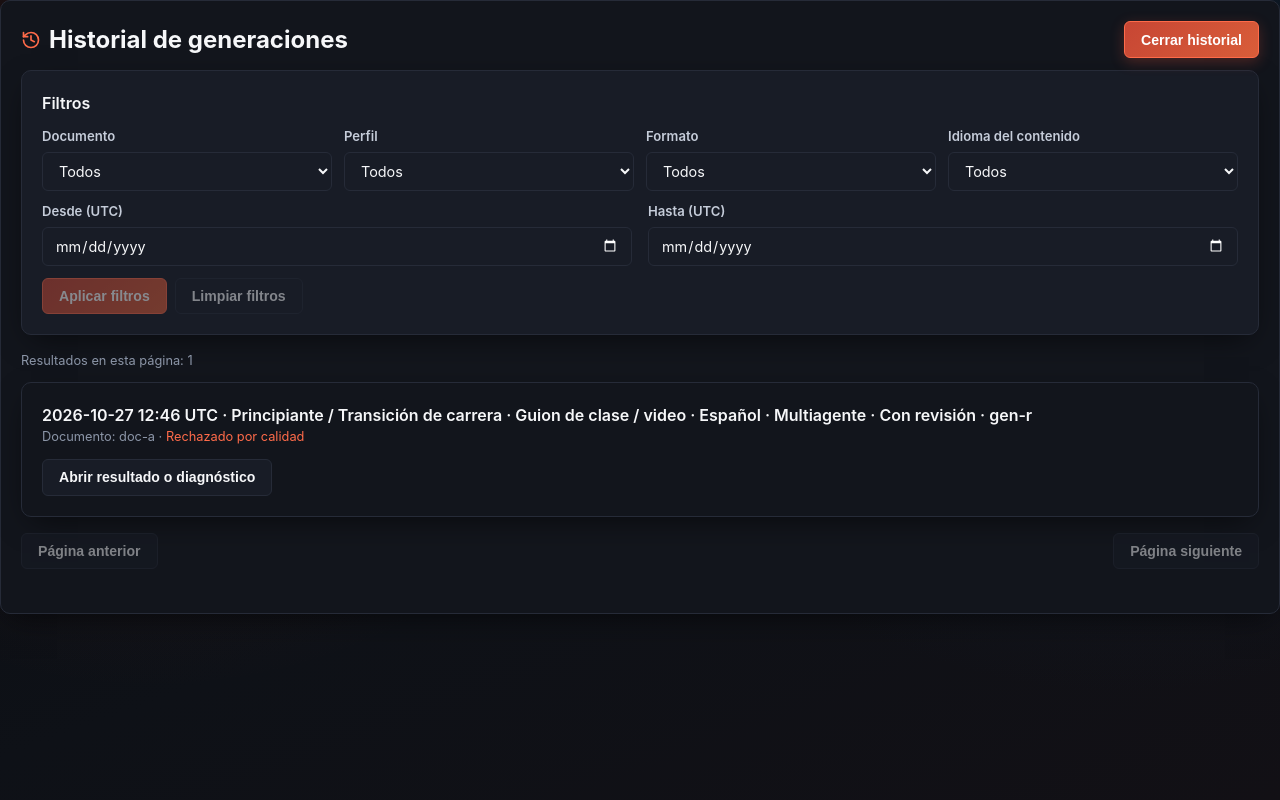
Scenario: diagnóstico de un rechazo en el historial › muestra el motivo aunque la causa del servidor no tenga traducción
Click the button "Abrir resultado o diagnóstico" at (157, 477), box [42,459,272,496]
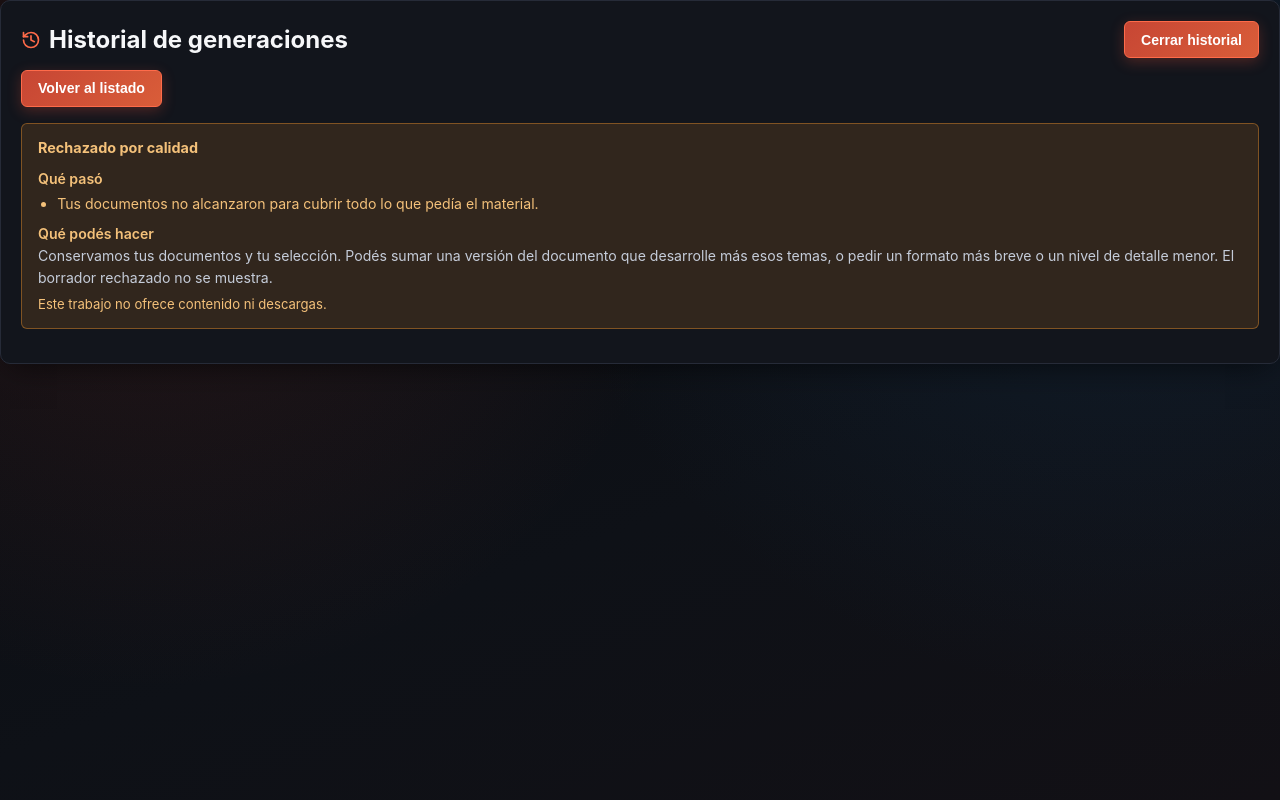
Check: the text "Rechazado por calidad" is shown, box [38,139,198,156]
Check: the list item "Tus documentos no alcanzaron para cubrir todo lo que pedía el material." is shown, box [57,196,539,212]
Check: the text "Conservamos tus documentos y tu selección. Podés sumar una versión del documento que desarrolle más esos temas, o pedir " is shown, box [38,247,1234,286]
